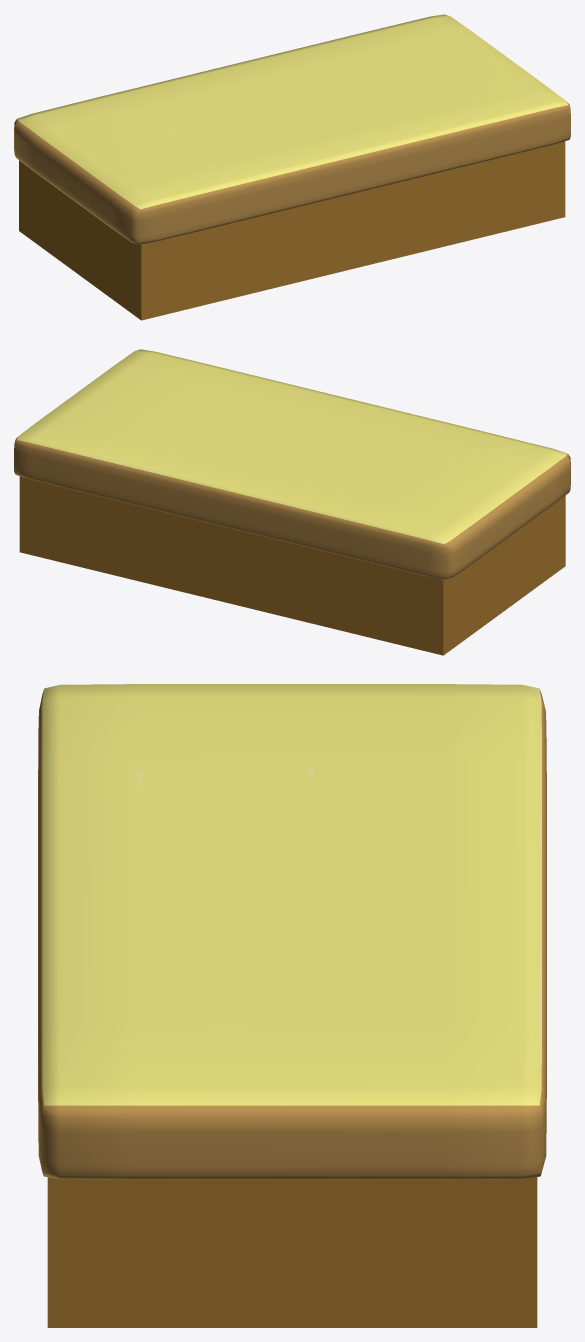
The picture shows the model from 3 angles, top to bottom: view 1: azimuth 30°, elevation 25°; view 2: azimuth 150°, elevation 25°; view 3: azimuth 270°, elevation 25°; orthographic projection. The views are drawn at different scales.
Visible parts, largest first — view 1: FT2_Cover, FT2_BAse; view 2: FT2_Cover, FT2_BAse; view 3: FT2_Cover, FT2_BAse.
Boxes of the visible parts, left/top/right/bottom form: FT2_Cover: left=14, top=14, right=570, bottom=244; FT2_BAse: left=19, top=141, right=565, bottom=320; FT2_Cover: left=14, top=349, right=570, bottom=579; FT2_BAse: left=19, top=476, right=565, bottom=655; FT2_Cover: left=38, top=684, right=546, bottom=1180; FT2_BAse: left=47, top=1177, right=537, bottom=1327.
Size of the model in its own units: 2.08 by 0.52 by 1.04.
